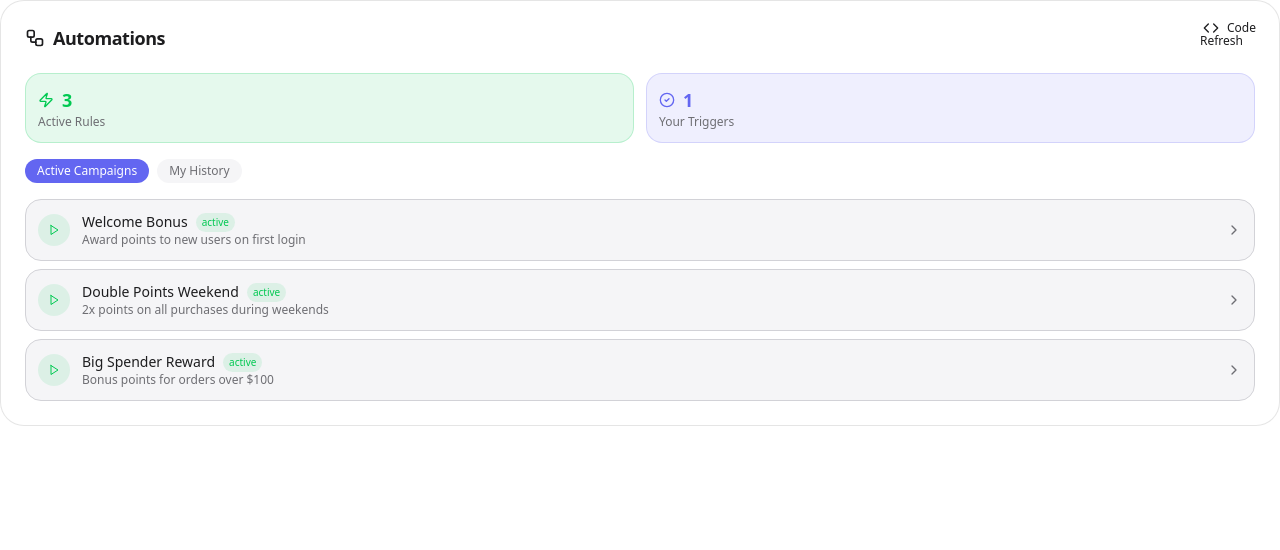
it: DemoCampaigns › shows campaign details when expanded
Click on the Welcome Bonus campaign to expand
Click the text "Welcome Bonus": (135, 222) [82, 212, 188, 232]
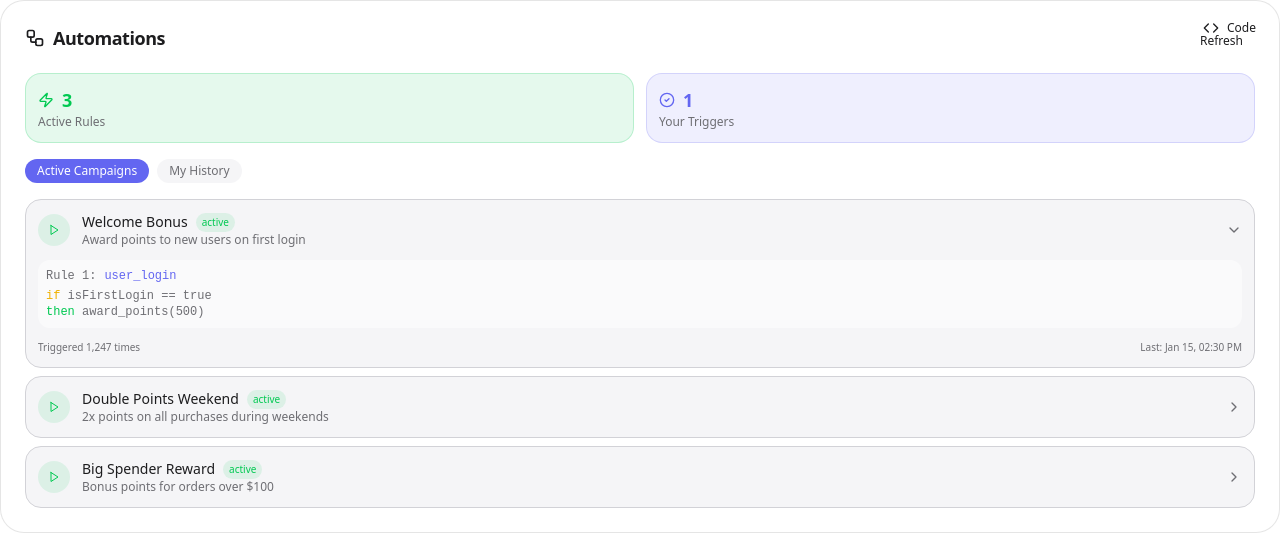
Expected: the text "user_login" is shown, [104, 268, 176, 284]
